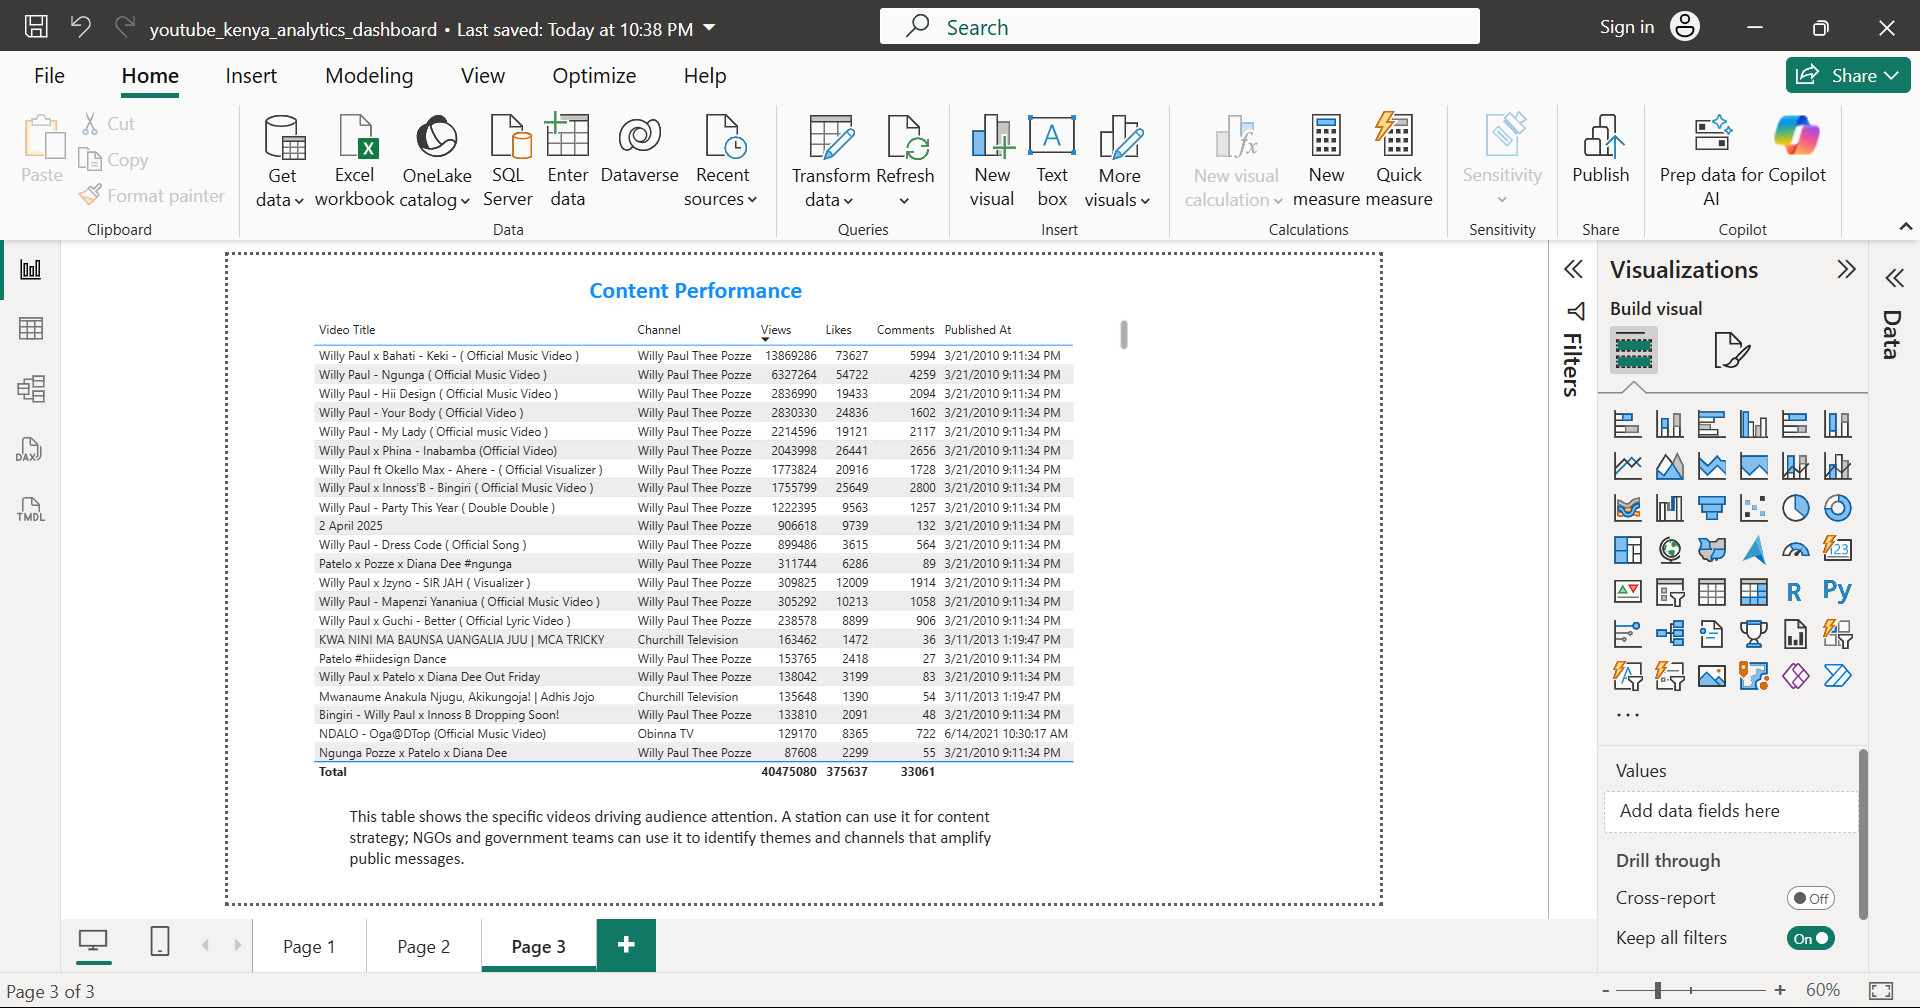

What the dashboard file says about the page in this screenshot:
{"tool":"powerbi","page":{"name":"Page 3","canvas":[1280,720],"ordinal":2},"visuals":[{"type":"tableEx","fields":{"Values":["public dim_video.video_title","public dim_channel.channel_title","Sum(public fact_video_performance.view_count)","Sum(public fact_video_performance.like_count)","Sum(public fact_video_performance.comment_count)","public dim_channel.published_at"]},"box":[90,66.7,915,521.7],"z":0},{"type":"textbox","box":[150,16.7,740,50],"z":1000},{"type":"textbox","box":[90,588.3,800,115],"z":2000}]}

Visuals, with their boxes on the page's 1280x720 design canvas (x1, y1, x2, y2). These are canvas units, not pixel positions in the 1920x1008 screenshot, which may show the page scaled, cropped or inside an application window:
tableEx - public dim_video.video_title x public dim_channel.channel_title: 90 67 1005 588
textbox: 150 17 890 67
textbox: 90 588 890 703
